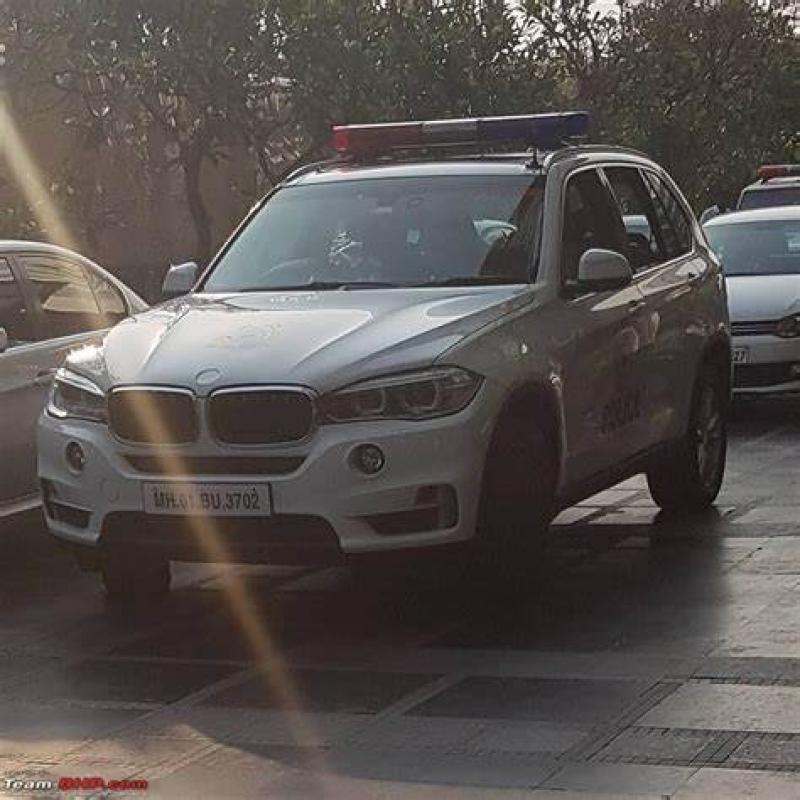AmbulanceSiren: (304, 106, 613, 152)
